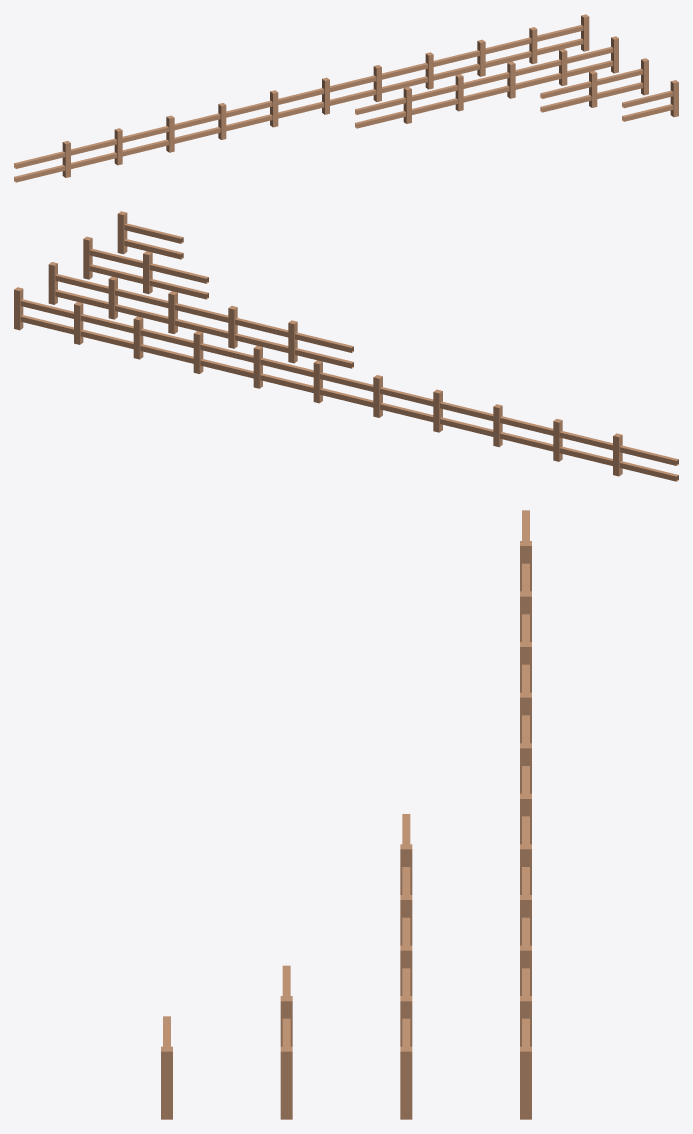
The model's file is Fence_Wood.fbx.
3 views of the same model, one above another, from view 1: azimuth 30°, elevation 25°; view 2: azimuth 150°, elevation 25°; view 3: azimuth 270°, elevation 25° (orthographic). The views are drawn at different scales.
Parts seen in each view (by area): view 1: Fence_Wood_22m, Fence_Wood_10m, Fence_Wood_6m, Fence_Wood_2m; view 2: Fence_Wood_22m, Fence_Wood_10m, Fence_Wood_6m, Fence_Wood_2m; view 3: Fence_Wood_22m, Fence_Wood_10m, Fence_Wood_6m, Fence_Wood_2m.
Part boxes in pixels (x1,y1,x2,y2): Fence_Wood_22m: (14, 14, 589, 182); Fence_Wood_10m: (355, 36, 618, 128); Fence_Wood_6m: (540, 58, 648, 112); Fence_Wood_2m: (622, 80, 678, 121); Fence_Wood_22m: (14, 287, 678, 481); Fence_Wood_10m: (48, 262, 353, 368); Fence_Wood_6m: (83, 236, 208, 299); Fence_Wood_2m: (117, 211, 183, 259); Fence_Wood_22m: (520, 510, 531, 1119); Fence_Wood_10m: (400, 814, 412, 1119); Fence_Wood_6m: (280, 965, 292, 1119); Fence_Wood_2m: (161, 1016, 172, 1119).
Bounding box in the file's own units: 22.1 × 1.25 × 6.2.
